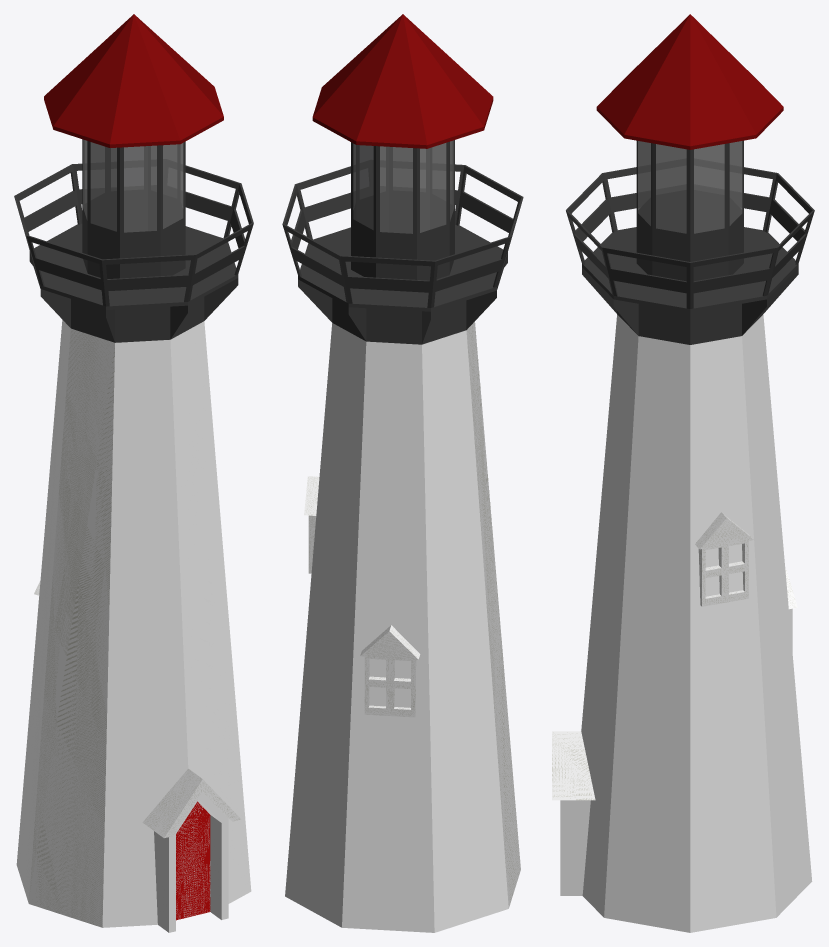
The model's file is lighthouse.dae.
The picture shows the model from 3 angles, left to right: view 1: azimuth 30°, elevation 25°; view 2: azimuth 150°, elevation 25°; view 3: azimuth 270°, elevation 25°; orthographic projection.
Parts seen in each view (by area): view 1: Tower (×5), Lantern_Room (×7), Cupola, Lantern_Deck, Fence; view 2: Tower (×4), Lantern_Room (×7), Cupola, Lantern_Deck, Fence; view 3: Tower (×4), Lantern_Room (×9), Cupola, Lantern_Deck, Fence.
Part boxes in pixels (<box>): Tower (×5): <box>16,320,251,932</box>; Lantern_Room (×7): <box>82,139,185,278</box>; Cupola: <box>44,14,223,147</box>; Lantern_Deck: <box>29,223,238,342</box>; Fence: <box>14,163,253,306</box>; Tower (×4): <box>285,321,520,932</box>; Lantern_Room (×7): <box>351,140,454,280</box>; Cupola: <box>312,14,493,148</box>; Lantern_Deck: <box>298,225,507,344</box>; Fence: <box>282,164,523,307</box>; Tower (×4): <box>552,314,812,932</box>; Lantern_Room (×9): <box>636,140,743,281</box>; Cupola: <box>596,14,783,149</box>; Lantern_Deck: <box>582,227,798,344</box>; Fence: <box>566,167,814,308</box>.
Bounding box in the file's own units: 7.66 × 8.08 × 29.44.
